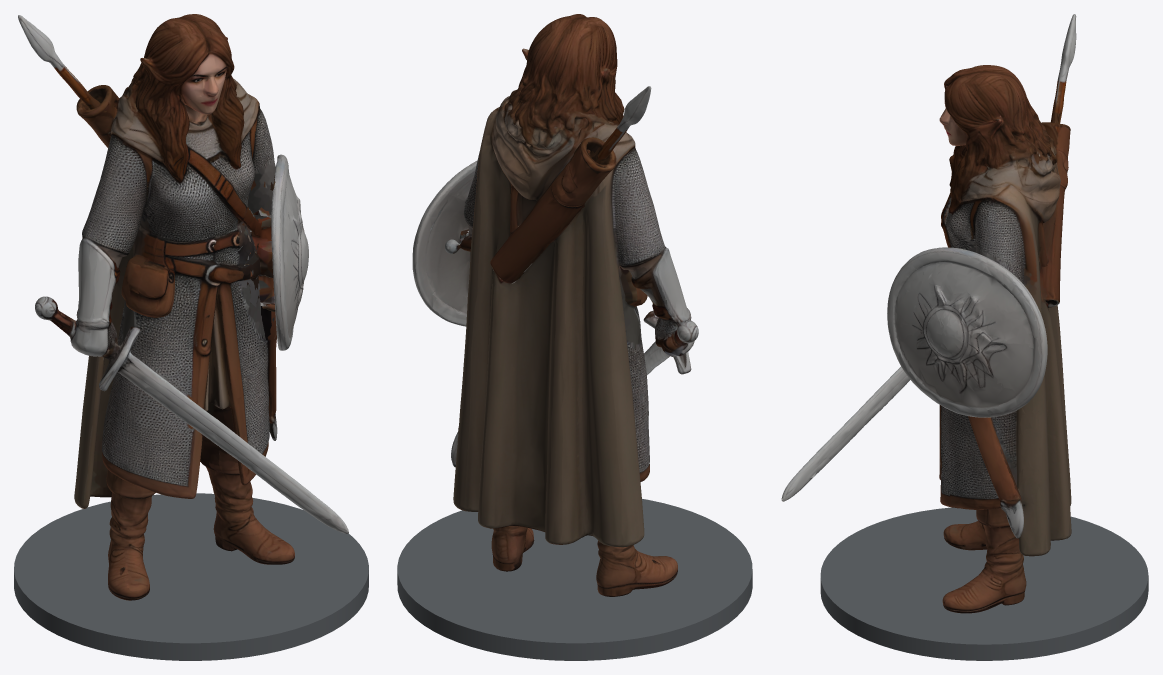
File: generated-balanced-elf-669771674942.glb
The picture shows the model from 3 angles, left to right: view 1: azimuth 30°, elevation 25°; view 2: azimuth 150°, elevation 25°; view 3: azimuth 270°, elevation 25°; orthographic projection. The views are drawn at different scales.
Visible parts, largest first — view 1: textured.obj, uploaded_round_base; view 2: textured.obj, uploaded_round_base; view 3: textured.obj, uploaded_round_base.
Boxes of the visible parts, bbox=[...] form: textured.obj: bbox=[18, 14, 348, 600]; uploaded_round_base: bbox=[14, 493, 368, 660]; textured.obj: bbox=[412, 14, 698, 596]; uploaded_round_base: bbox=[397, 499, 752, 660]; textured.obj: bbox=[781, 14, 1076, 613]; uploaded_round_base: bbox=[820, 507, 1148, 660].
Size of the model in its own units: 1 by 1.76 by 1.12.
2 materials, 1 textured.
